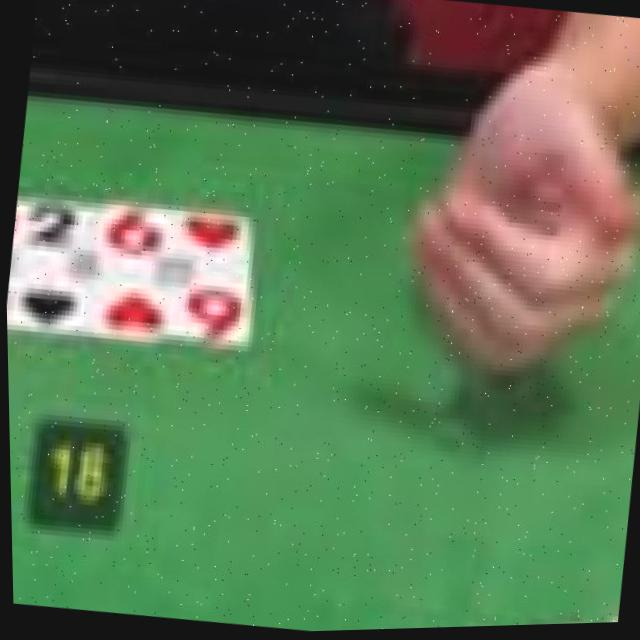Card-2: (5, 197, 96, 336)
Card-6: (87, 205, 250, 352)
